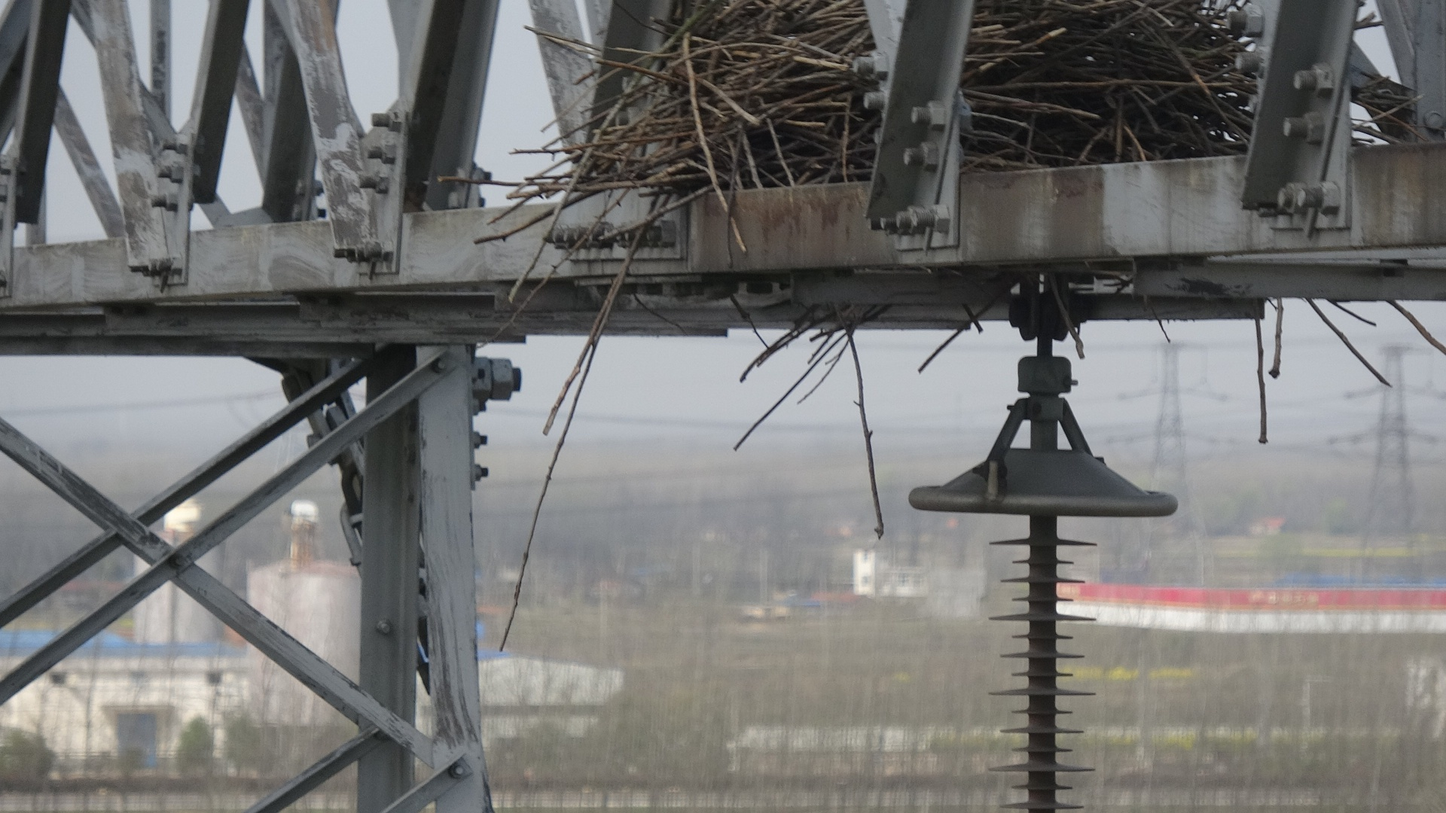insulator: (978, 532, 1106, 813)
